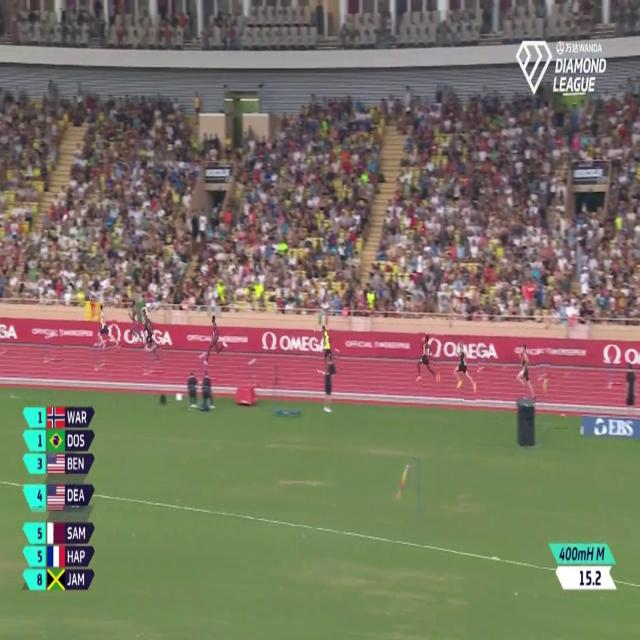athlete: (450, 336, 477, 403), (414, 328, 442, 390), (92, 292, 120, 354), (206, 311, 230, 369), (516, 344, 537, 407), (142, 307, 162, 367), (315, 324, 338, 376), (123, 300, 143, 344)
hurdle: (39, 330, 63, 371), (142, 341, 160, 379), (530, 351, 550, 383), (90, 337, 108, 372), (244, 355, 258, 393), (605, 357, 616, 399), (197, 350, 210, 383), (478, 347, 490, 376)
